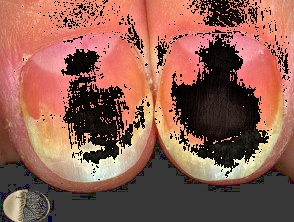Nail_psoriasis: (18, 69, 161, 189), (152, 86, 286, 181)
